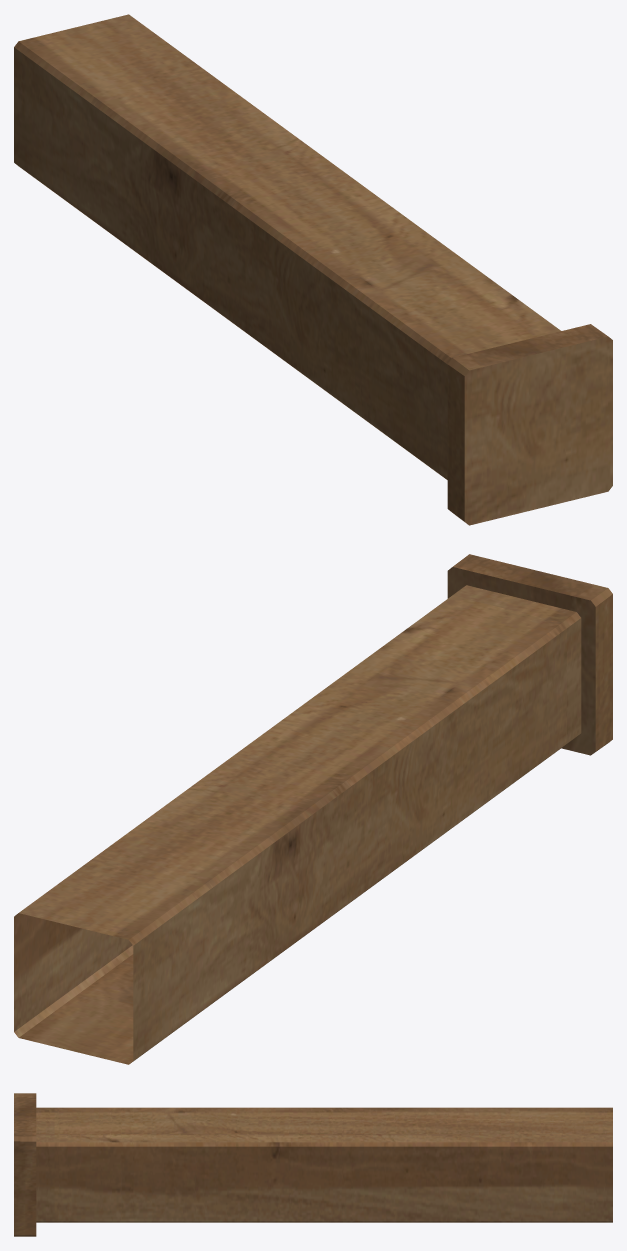
Rendered from nt_concrete_fence_post_LOD0.obj.
3 views of the same model, one above another, from view 1: azimuth 30°, elevation 25°; view 2: azimuth 150°, elevation 25°; view 3: azimuth 270°, elevation 25° (orthographic). The views are drawn at different scales.
Parts seen in each view (by area): view 1: nt_wood_post; view 2: nt_wood_post; view 3: nt_wood_post.
Boxes of the visible parts, bbox=[...] form: nt_wood_post: bbox=[14, 14, 612, 525]; nt_wood_post: bbox=[14, 554, 612, 1064]; nt_wood_post: bbox=[14, 1093, 612, 1236].
Bounding box in the file's own units: 25.22 × 25.22 × 137.
Materials: 1 (1 with a texture image).
